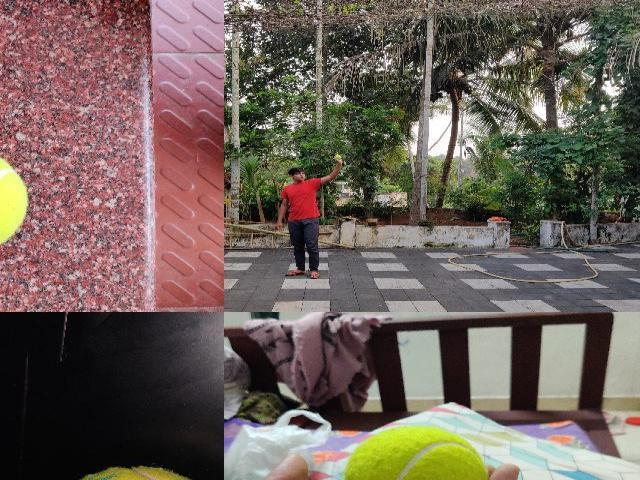tennis-ball: (345, 425, 487, 479), (82, 467, 191, 480), (335, 155, 341, 159)
